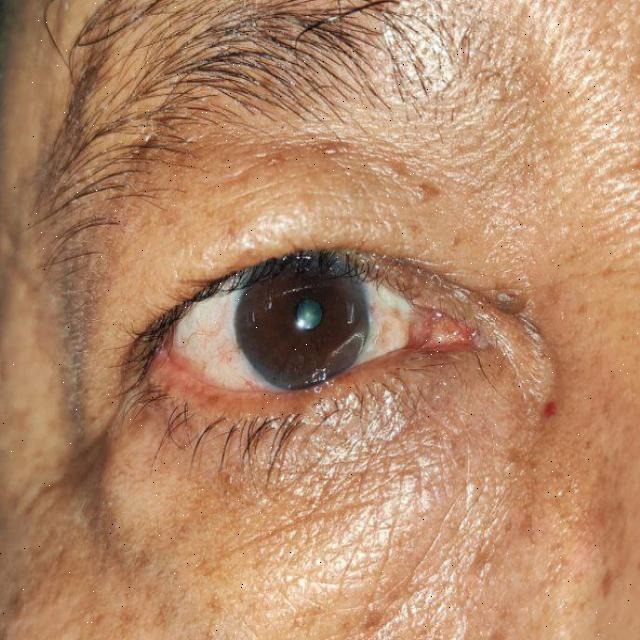Cataract: (238, 242, 366, 391)
